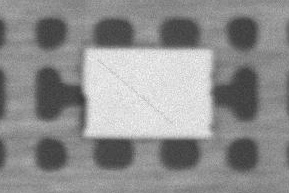DIE_CRACK: (147, 40, 258, 82)
